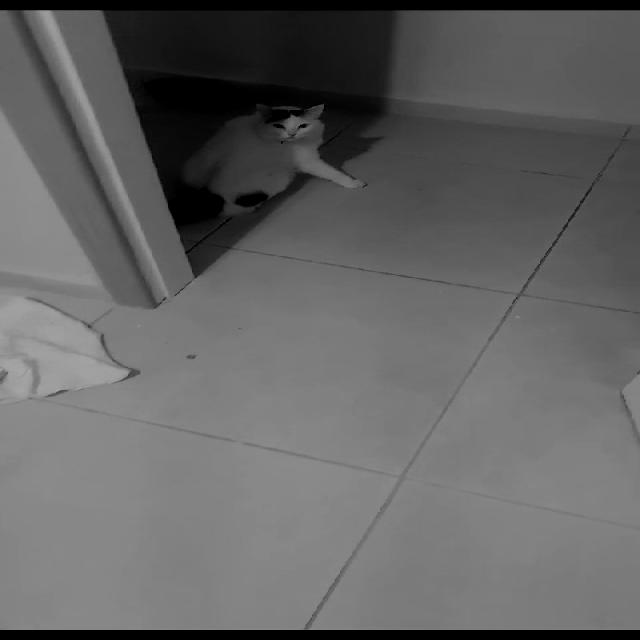Simba: (160, 95, 368, 229)
